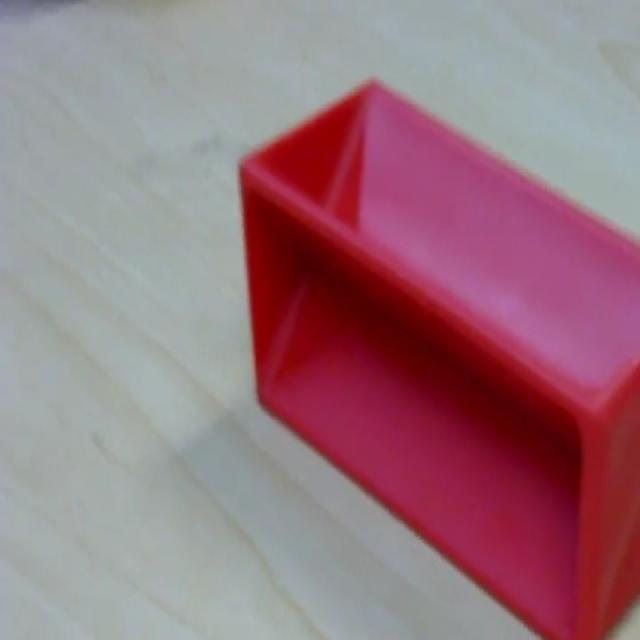red_block: (236, 75, 638, 636)
